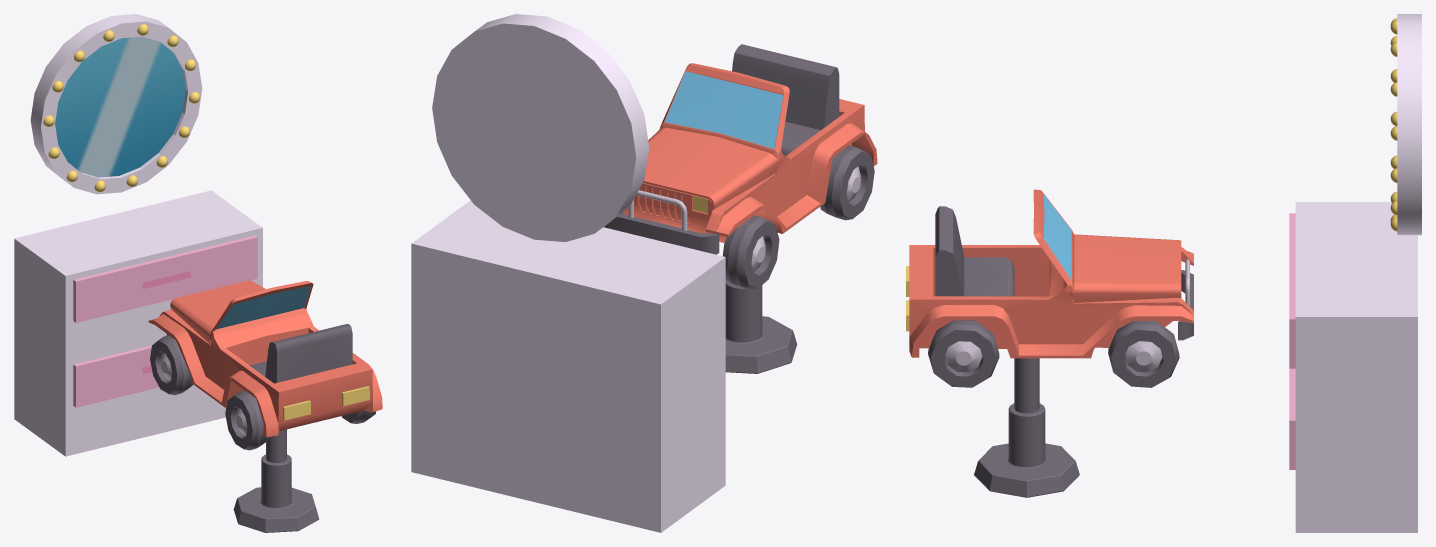
File: HC_HaircutTable_02.fbx
The picture shows the model from 3 angles, left to right: view 1: azimuth 30°, elevation 25°; view 2: azimuth 150°, elevation 25°; view 3: azimuth 270°, elevation 25°; orthographic projection. The views are drawn at different scales.
Parts seen in each view (by area): view 1: Tble_02, Chair_02, Mirror02; view 2: Tble_02, Chair_02, Mirror02; view 3: Chair_02, Tble_02, Mirror02.
Boxes of the visible parts, x1,y1,x2,y2 form: Tble_02: (14,190,262,456); Chair_02: (148,280,382,532); Mirror02: (30,14,202,194); Tble_02: (411,200,725,532); Chair_02: (603,44,877,373); Mirror02: (432,14,649,241); Chair_02: (906,189,1193,497); Tble_02: (1289,202,1417,532); Mirror02: (1390,14,1421,235).
Bounding box in the file's own units: 138 × 252 × 261.
2 materials, 2 textured.
